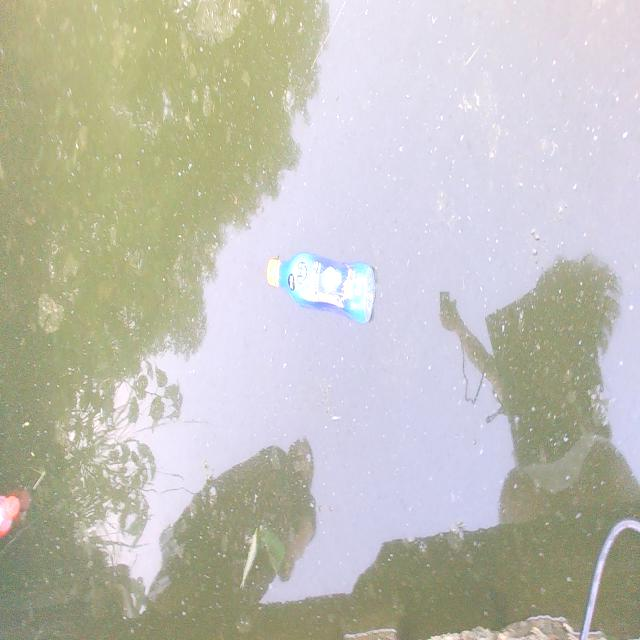bottle: (246, 234, 399, 331)
